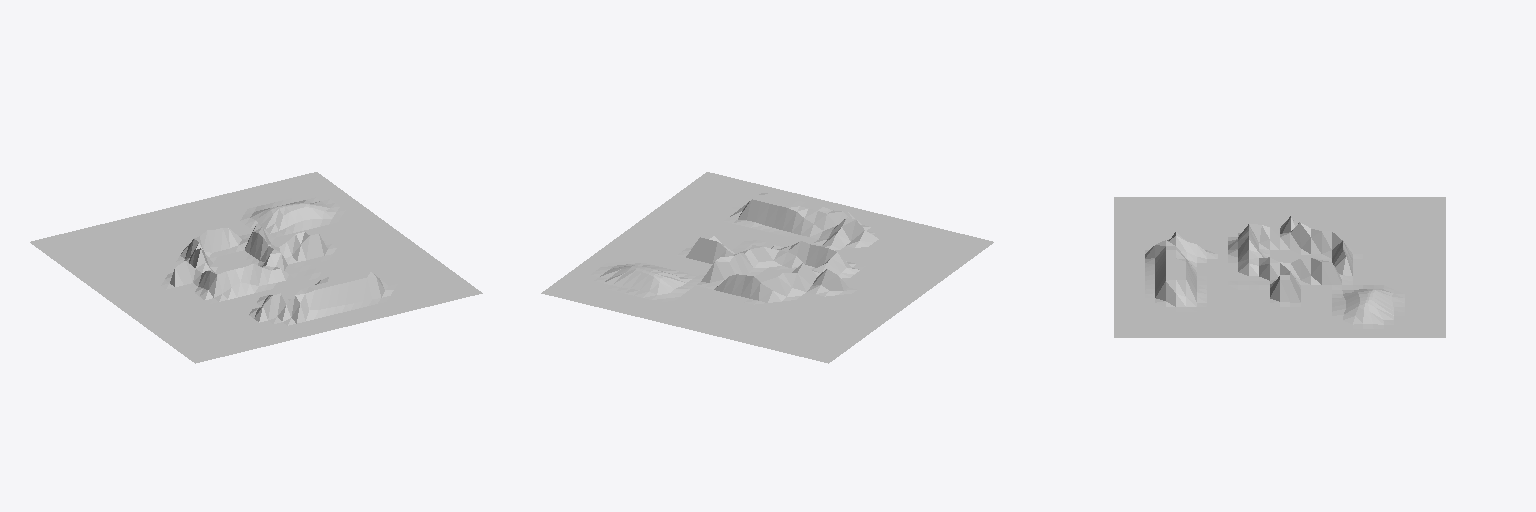
File: Level_1.obj
3 views of the same model, side by side, from view 1: azimuth 30°, elevation 25°; view 2: azimuth 150°, elevation 25°; view 3: azimuth 270°, elevation 25° (orthographic).
Parts seen in each view (by area): view 1: Mesh_Mesh_Plane; view 2: Mesh_Mesh_Plane; view 3: Mesh_Mesh_Plane.
Part boxes in pixels (bbox=[...]): Mesh_Mesh_Plane: bbox=[30, 172, 482, 363]; Mesh_Mesh_Plane: bbox=[541, 172, 993, 363]; Mesh_Mesh_Plane: bbox=[1114, 197, 1445, 337].
Size of the model in its own units: 16 by 1.24 by 16.